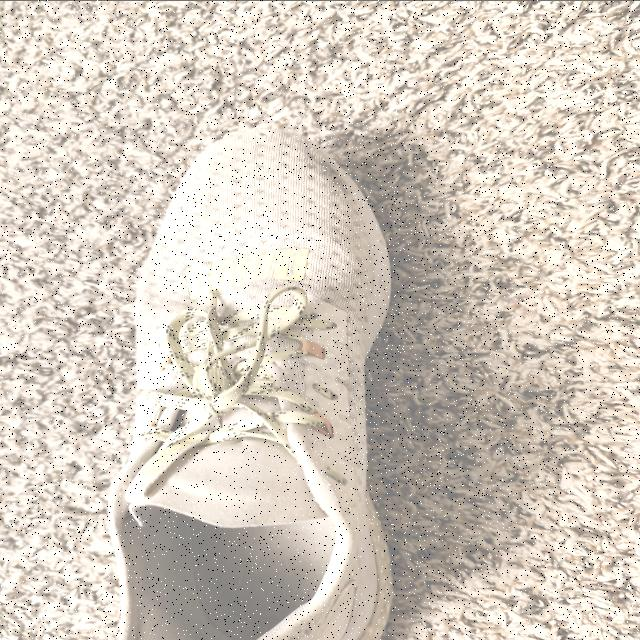white shoes: (113, 133, 376, 640)
